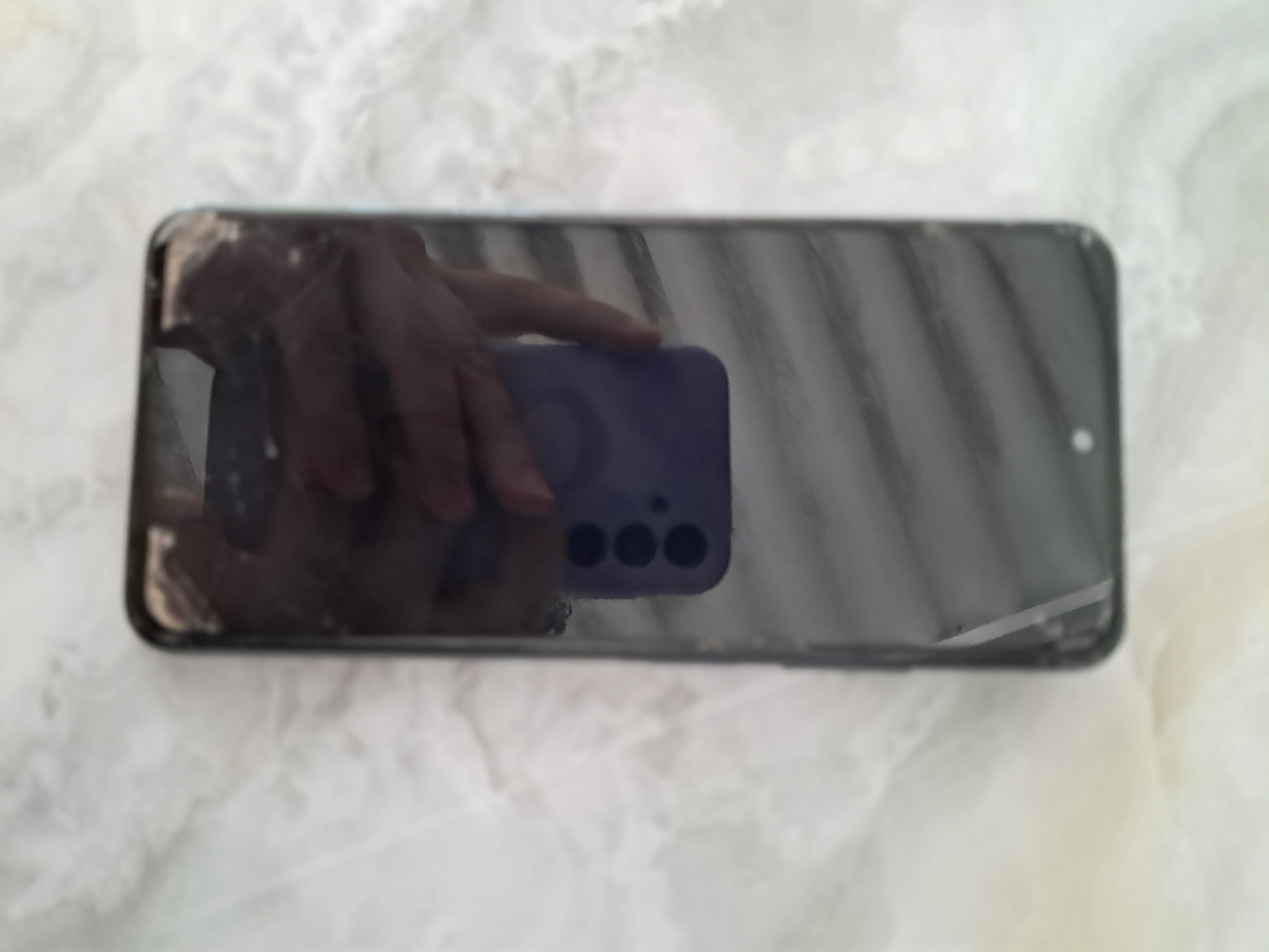phone: (125, 207, 1125, 670)
